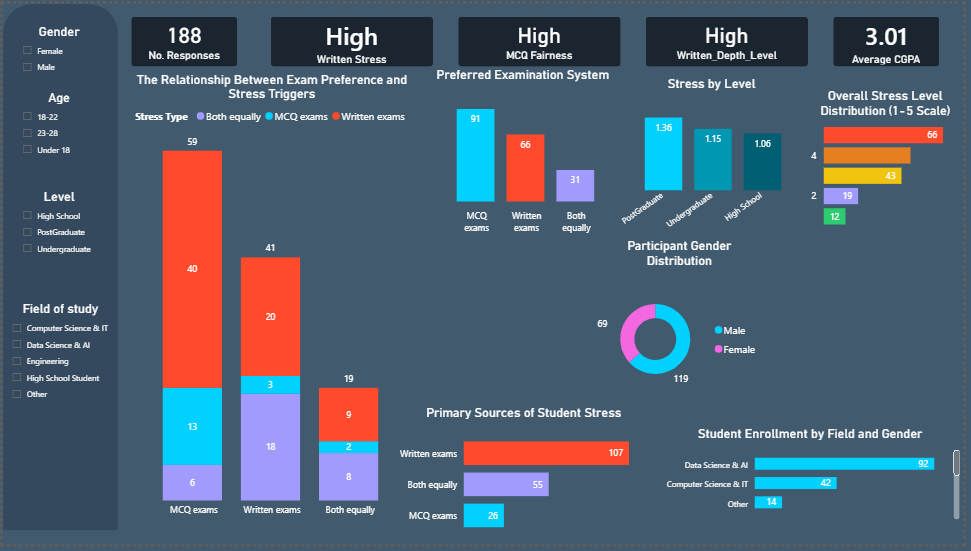

The dashboard page shown, as its layout file describes it:
{"tool":"powerbi","page":{"name":"Page 1","canvas":[1280,720],"ordinal":0},"visuals":[{"type":"shape","box":[0,0,153.3,701.7],"z":0},{"type":"cardVisual","fields":{"Data":["Avg(cleaned_dataset.CGPA)"]},"box":[1090,0,175,100],"z":1000},{"type":"cardVisual","fields":{"Data":["cleaned_dataset.AVG_Written_Stress"]},"box":[340,0,250,100],"z":2000},{"type":"cardVisual","fields":{"Data":["cleaned_dataset.MCQ_Fairness_Level"]},"box":[590,0,250,100],"z":3000},{"type":"clusteredColumnChart","title":"Preferred Examination System","fields":{"Category":["cleaned_dataset.Better System Label"],"Y":["CountNonNull(cleaned_dataset.Better System Label)"]},"box":[563.3,83.3,258.3,230],"z":4000},{"type":"clusteredBarChart","title":"Primary Sources of Student Stress","fields":{"Category":["cleaned_dataset.Stress Type Label"],"Y":["CountNonNull(cleaned_dataset.Stress Type Label)"]},"box":[515,533.3,356.7,186.7],"z":5000},{"type":"columnChart","title":"The Relationship Between Exam Preference and Stress Triggers","fields":{"Category":["cleaned_dataset.Better System Label"],"Series":["cleaned_dataset.Stress Type Label"],"Y":["Sum(cleaned_dataset.Gender)"]},"box":[165,90,385,601.7],"z":6000},{"type":"clusteredBarChart","title":"Overall Written Stress Level Distribution (1-5 Scale)","fields":{"Category":["cleaned_dataset.Likert_Stress_Comparison"],"Y":["CountNonNull(cleaned_dataset.Likert_Stress_Comparison)"]},"box":[1071.7,111.7,208.3,186.7],"z":7000},{"type":"donutChart","title":"Participant Gender Distribution","fields":{"Category":["cleaned_dataset.Gender_Label"],"Y":["CountNonNull(cleaned_dataset.Gender_Label)"]},"box":[785,311.7,231.7,230],"z":8000},{"type":"clusteredColumnChart","title":"Stress by Level","fields":{"Category":["cleaned_dataset.Level_Label"],"Y":["Avg(cleaned_dataset.Stress Exam Type)"]},"box":[818.3,96.7,253.3,215],"z":9000},{"type":"clusteredBarChart","title":"Student Enrollment by Field and Gender","fields":{"Category":["cleaned_dataset.Field_Category"],"Y":["CountNonNull(cleaned_dataset.Gender_Label)"]},"box":[871.7,561.7,408.3,130],"z":10000},{"type":"slicer","title":"Level","fields":{"Values":["cleaned_dataset.Level_Label"]},"box":[13.3,245,121.7,131.7],"z":12000},{"type":"slicer","title":"Gender","fields":{"Values":["cleaned_dataset.Gender_Label"]},"box":[13.3,26.7,121.7,113.3],"z":13000},{"type":"slicer","title":"Age","fields":{"Values":["cleaned_dataset.Age_Label"]},"box":[13.3,113.3,121.7,116.7],"z":14000},{"type":"slicer","title":"Field of study","fields":{"Values":["cleaned_dataset.Field_Category"]},"box":[0,396.7,153.3,231.7],"z":15000},{"type":"cardVisual","fields":{"Data":["cleaned_dataset.Written_Depth_Level"]},"box":[840,0,250,100],"z":16000},{"type":"cardVisual","fields":{"Data":["CountNonNull(cleaned_dataset.Gender)"]},"box":[153.3,0,175,100],"z":17000}]}

Visuals, with their boxes in screenshot pixels (x1, y1, x2, y2), scaled from the page's 1280x720 canvas onto the 971x551 screenshot:
shape: 0,0,116,537
cardVisual - Avg(cleaned_dataset.CGPA): 827,0,960,77
cardVisual - cleaned_dataset.AVG_Written_Stress: 258,0,448,77
cardVisual - cleaned_dataset.MCQ_Fairness_Level: 448,0,637,77
"Preferred Examination System" clusteredColumnChart: 427,64,623,240
"Primary Sources of Student Stress" clusteredBarChart: 391,408,661,550
"The Relationship Between Exam Preference and Stress Triggers" columnChart: 125,69,417,529
"Overall Written Stress Level Distribution (1-5 Scale)" clusteredBarChart: 813,85,970,228
"Participant Gender Distribution" donutChart: 595,239,771,415
"Stress by Level" clusteredColumnChart: 621,74,813,239
"Student Enrollment by Field and Gender" clusteredBarChart: 661,430,970,529
"Level" slicer: 10,187,102,288
"Gender" slicer: 10,20,102,107
"Age" slicer: 10,87,102,176
"Field of study" slicer: 0,304,116,481
cardVisual - cleaned_dataset.Written_Depth_Level: 637,0,827,77
cardVisual - CountNonNull(cleaned_dataset.Gender): 116,0,249,77
